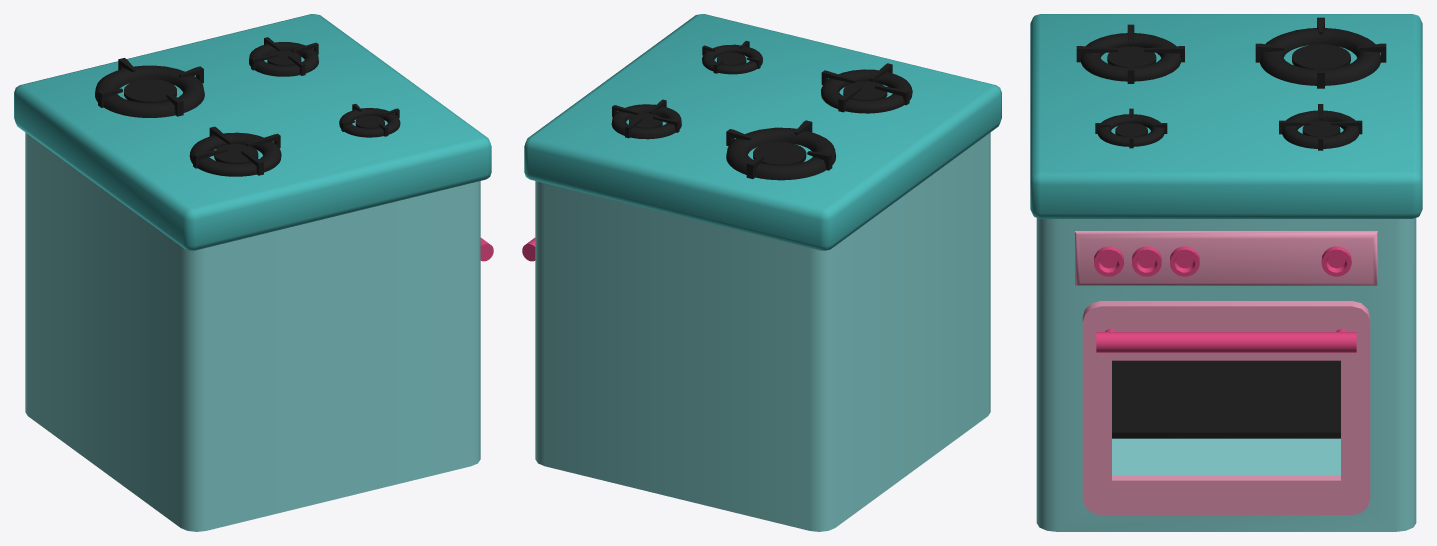
The model's file is furniture_electronics_210039.glb.
3 views of the same model, side by side, from view 1: azimuth 30°, elevation 25°; view 2: azimuth 150°, elevation 25°; view 3: azimuth 270°, elevation 25° (orthographic). The views are drawn at different scales.
Parts seen in each view (by area): view 1: furniture_electronics_210039; view 2: furniture_electronics_210039; view 3: furniture_electronics_210039.
Part boxes in pixels (<box>): furniture_electronics_210039: <box>14,14,493,531</box>; furniture_electronics_210039: <box>522,14,1001,531</box>; furniture_electronics_210039: <box>1030,14,1422,531</box>.
Bounding box in the file's own units: 0.8564 × 0.8258 × 0.7842.
1 material, 1 textured.
